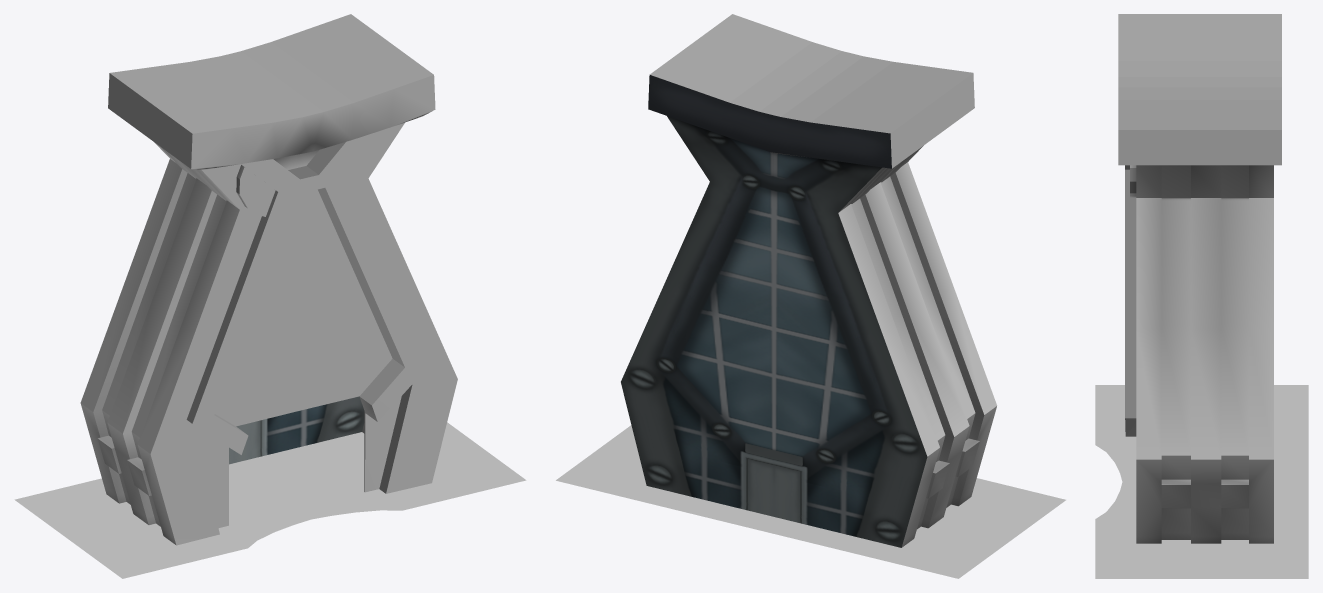
Rendered from bossed_bot_building-alt.fbx.
3 views of the same model, side by side, from view 1: azimuth 30°, elevation 25°; view 2: azimuth 150°, elevation 25°; view 3: azimuth 270°, elevation 25° (orthographic).
Visible parts, largest first — view 1: corp_building_front, corp_building_sides, shadow, corp_building_back; view 2: corp_building_back, corp_building_sides, corp_building_front, shadow; view 3: corp_building_sides, corp_building_front, shadow.
Part boxes in pixels (box(x1,y1,x2,y2)): corp_building_front: box(108, 14, 457, 545); corp_building_sides: box(80, 142, 364, 544); shadow: box(14, 422, 526, 578); corp_building_back: box(229, 396, 364, 464); corp_building_back: box(621, 75, 927, 547); corp_building_sides: box(838, 145, 997, 547); corp_building_front: box(650, 14, 974, 168); shadow: box(556, 425, 1065, 578); corp_building_sides: box(1136, 165, 1273, 543); corp_building_front: box(1118, 14, 1281, 436); shadow: box(1095, 385, 1308, 578).
Size of what is drawn, in the model's own units: 72.34 by 71.33 by 33.57.
